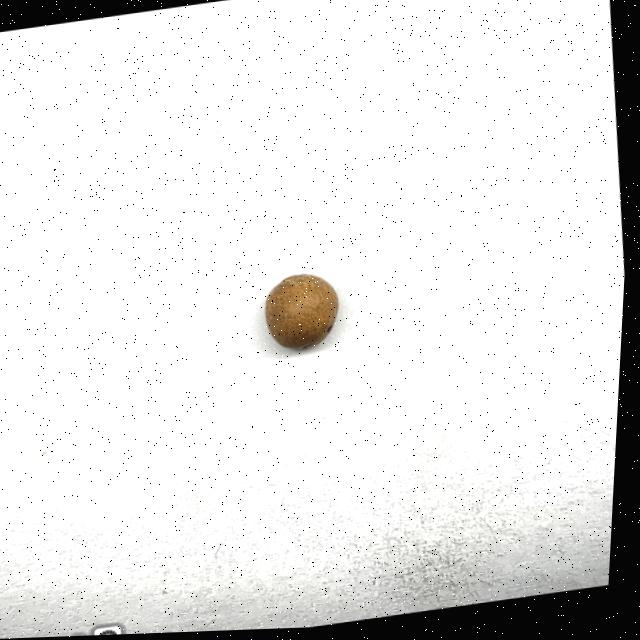Insect damage: (266, 270, 346, 356)
